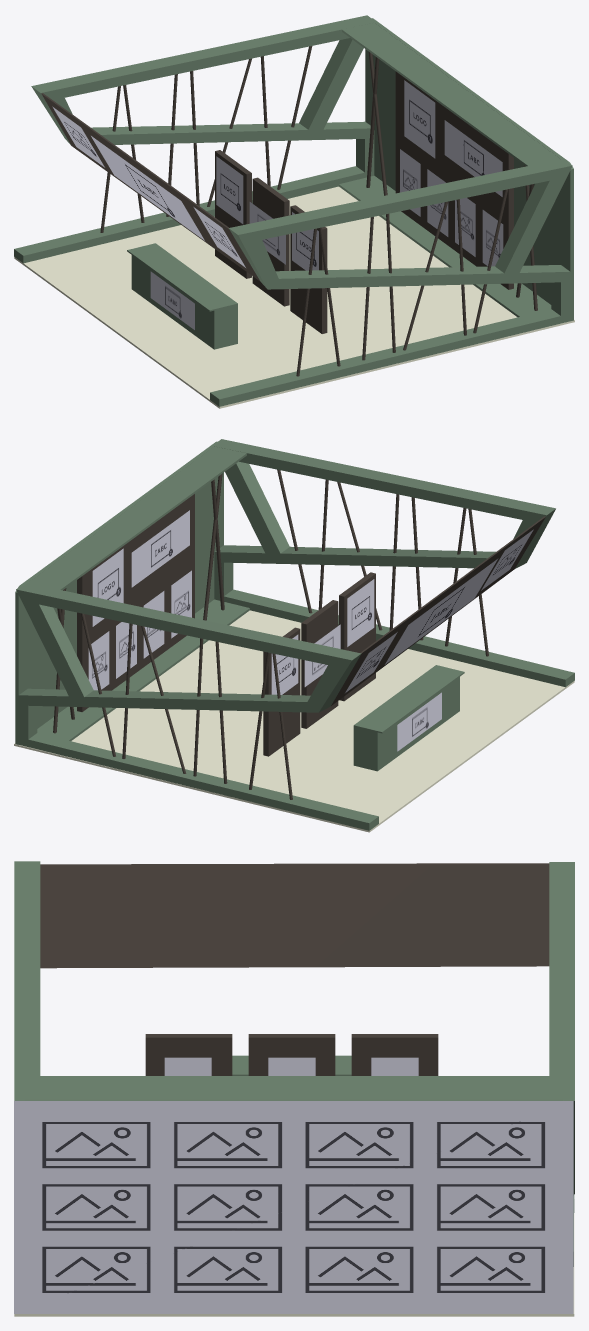
File: stant19.gltf
3 renders of one model, top to bottom at view 1: azimuth 30°, elevation 25°; view 2: azimuth 150°, elevation 25°; view 3: azimuth 270°, elevation 25°, orthographic. The views are drawn at different scales.
Visible parts, largest first — view 1: modrenk1, modzemin, modrenk2, modyazi3, modlogo3, modyazi2, modlogo1, modyazi1, moddikgorsel6, modlogo2, moddikgorsel7, moddikgorsel4 (+4 smaller); view 2: modrenk1, modzemin, modrenk2, modyazi3, modyazi2, modlogo3, modlogo2, modyazi1, moddikgorsel4, modlogo1, moddikgorsel5, moddikgorsel7 (+4 smaller); view 3: modgenisgorsel, modrenk2, modrenk1, modzemin, moddikgorsel2, moddikgorsel3, moddikgorsel1.
Part boxes in pixels (x1,y1,x2,y2): modrenk1: (14,15,573,406); modzemin: (14,186,574,408); modrenk2: (41,46,537,376); modyazi3: (91,136,204,240); modlogo3: (404,80,435,158); modyazi2: (444,120,502,196); modlogo1: (216,156,243,224); modyazi1: (150,271,194,329); moddikgorsel6: (455,197,475,256); modlogo2: (292,212,318,270); moddikgorsel7: (482,210,503,266); moddikgorsel4: (400,149,420,216); modrenk1: (15,439,574,830); modzemin: (14,610,574,832); modrenk2: (53,469,545,799); modyazi3: (385,558,498,664); modyazi2: (131,510,189,587); modlogo3: (92,548,123,626); modlogo2: (347,579,374,646); modyazi1: (397,692,441,751); moddikgorsel4: (88,631,109,690); modlogo1: (271,634,298,694); moddikgorsel5: (116,622,136,678); moddikgorsel7: (171,570,191,638); modgenisgorsel: (14,1101,573,1313); modrenk2: (40,863,549,1075); modrenk1: (14,861,574,1266); modzemin: (14,1213,574,1316); moddikgorsel2: (268,1057,315,1075); moddikgorsel3: (371,1057,418,1075); moddikgorsel1: (164,1057,211,1075).
Size of what is drawn, in the model's own units: 1 by 0.4582 by 1.
20 materials, 17 textured.
